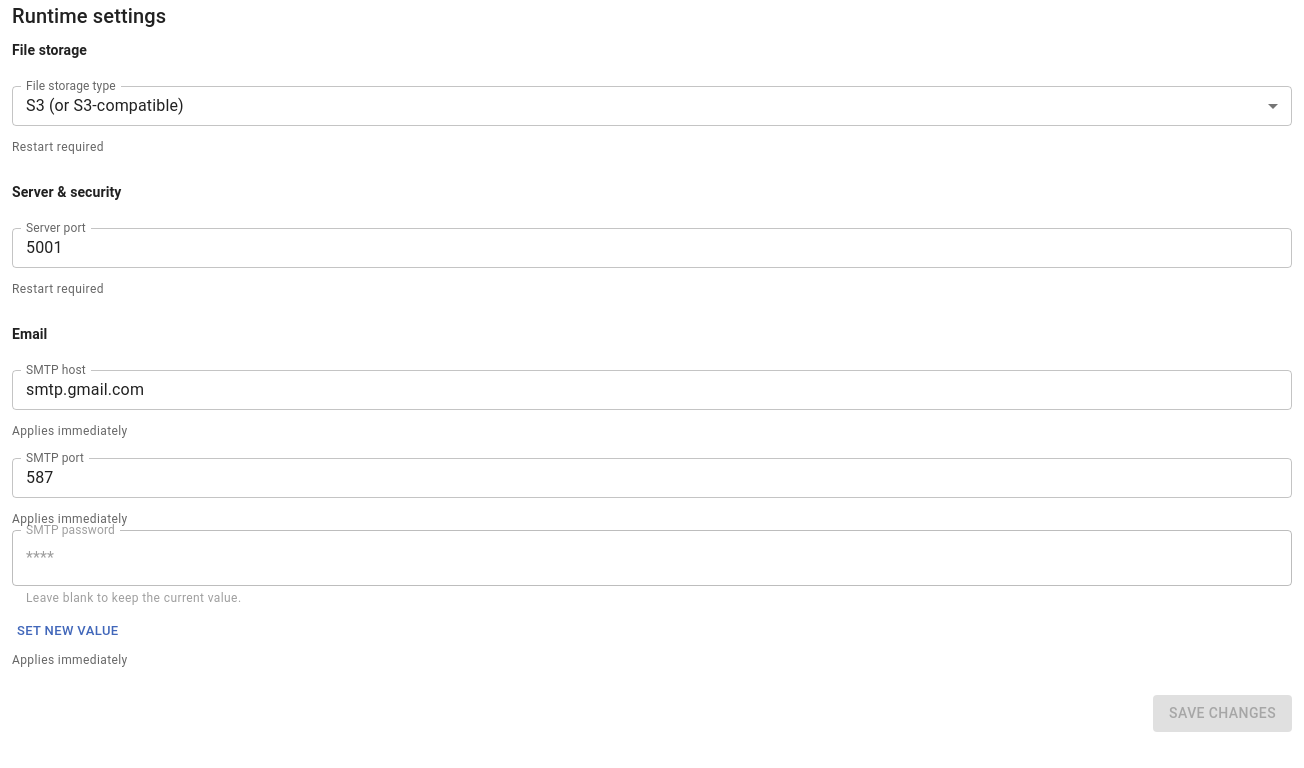
Test case: SystemConfigEditor › shows an applied-immediately banner listing T2 keys after save
Replace the text in the field labelled "SMTP host" with "smtp.example.com" at (652, 390), box x1=12 y1=370 x2=1292 y2=410
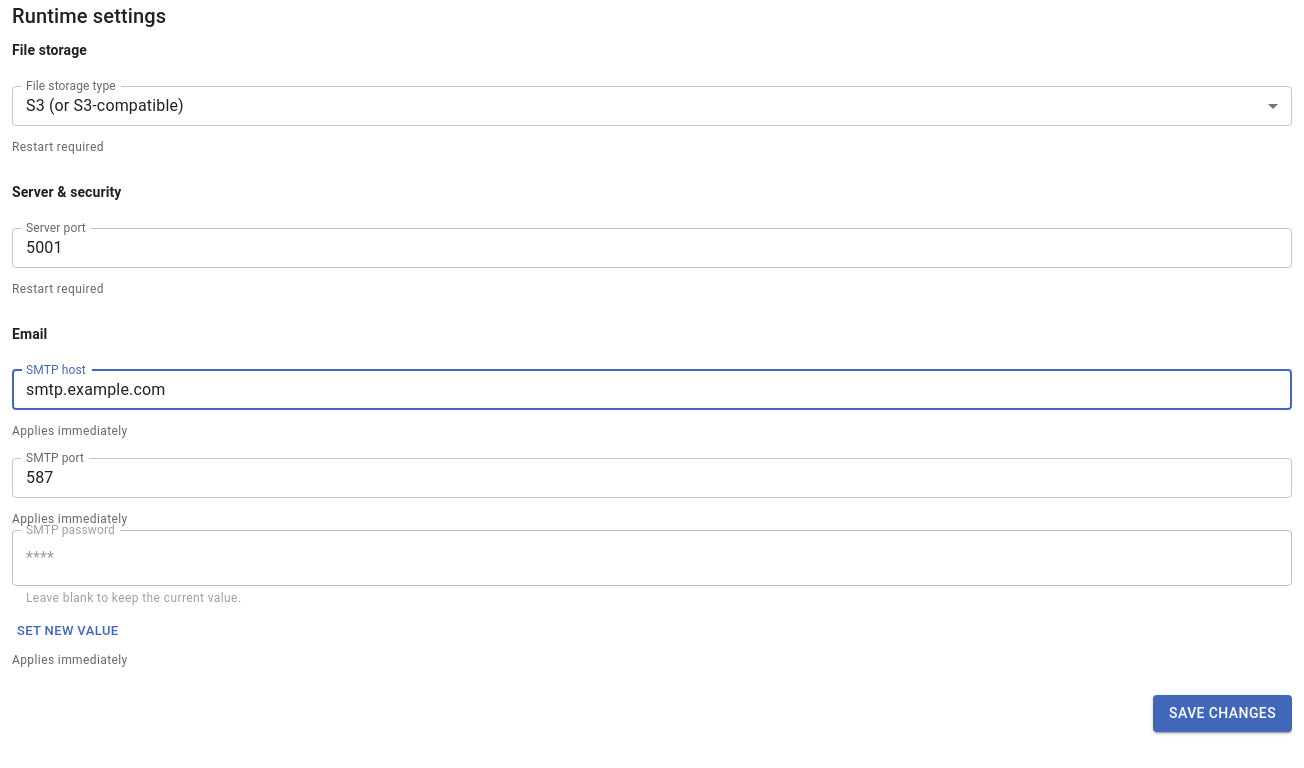
Click the button "Save changes".
click(1223, 713)  # box x1=1153 y1=695 x2=1292 y2=732
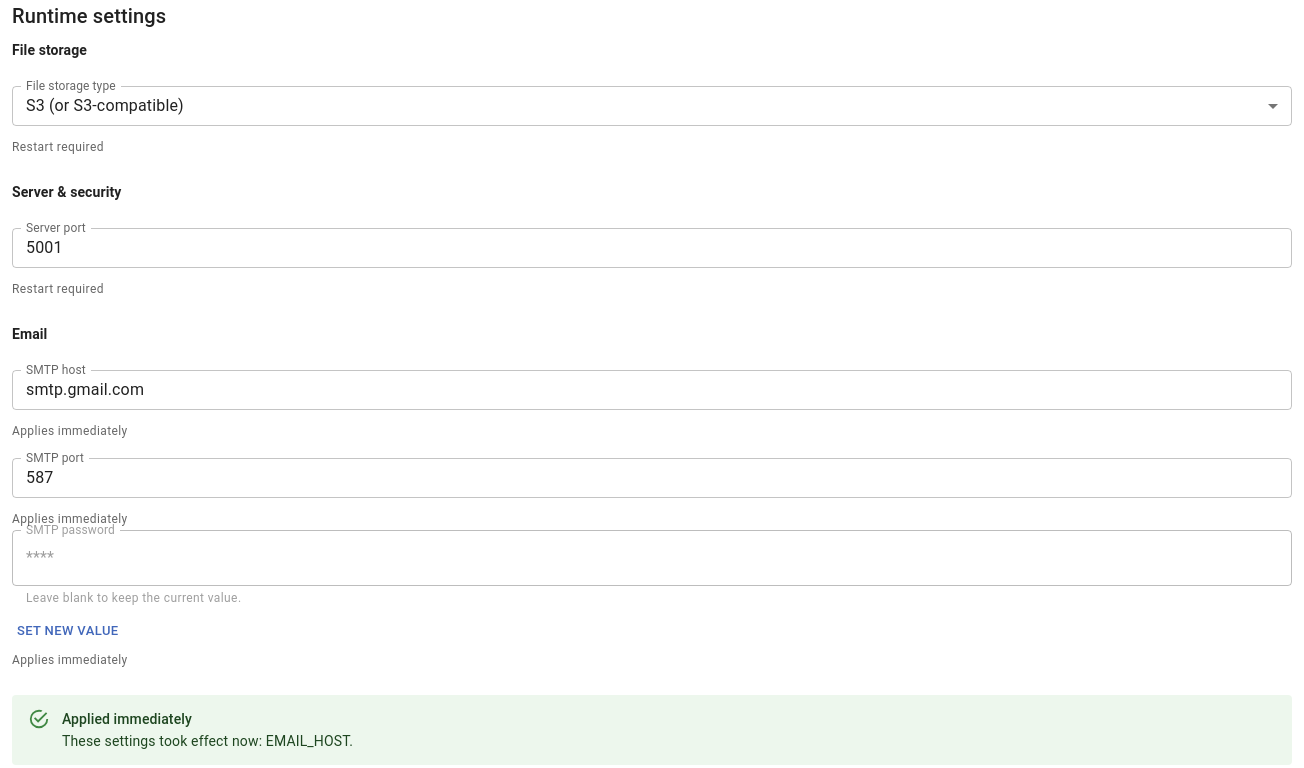
Result: the message "Applied immediately These settings took effect now: EMAIL_HOST." is shown at x1=12 y1=695 x2=1292 y2=765
Result: the text "These settings took effect now: EMAIL_HOST." is shown at x1=62 y1=731 x2=353 y2=751
